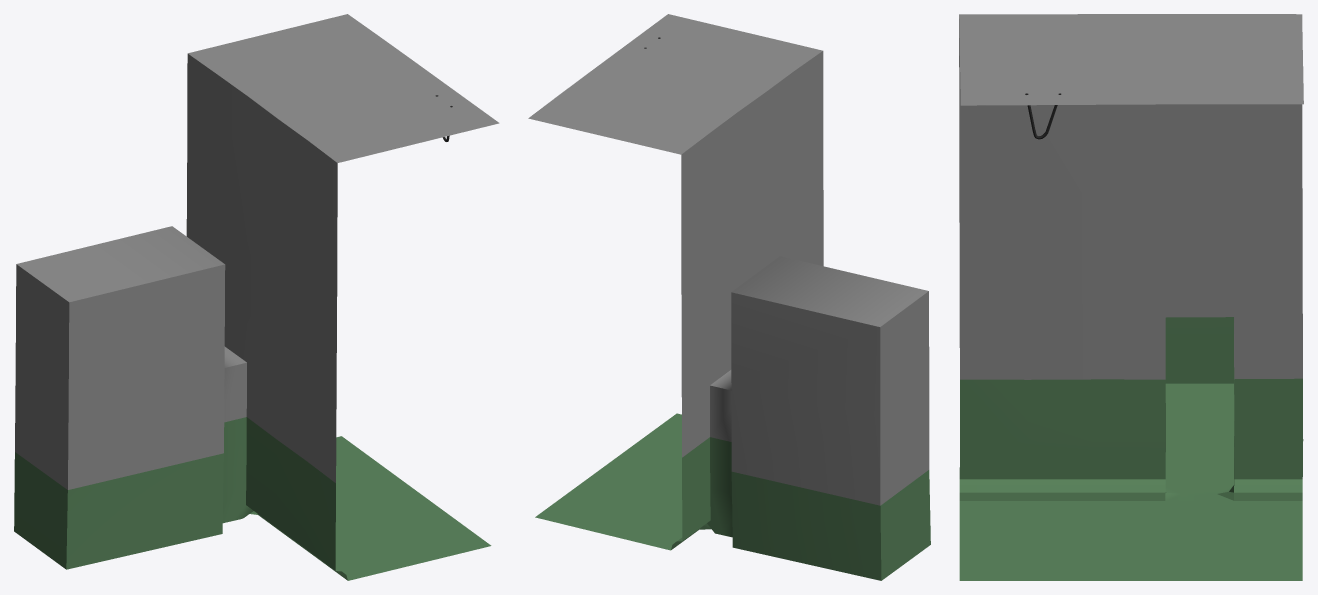
File: Mapa9.fbx
3 renders of one model, left to right at view 1: azimuth 30°, elevation 25°; view 2: azimuth 150°, elevation 25°; view 3: azimuth 270°, elevation 25°, orthographic. The views are drawn at different scales.
Parts seen in each view (by area): view 1: pPlane21; view 2: pPlane21; view 3: pPlane21.
Part boxes in pixels (<box>): pPlane21: <box>14,14,499,580</box>; pPlane21: <box>528,14,930,580</box>; pPlane21: <box>959,14,1303,580</box>.
Size of the model in its own units: 44.14 by 50.18 by 32.44.
